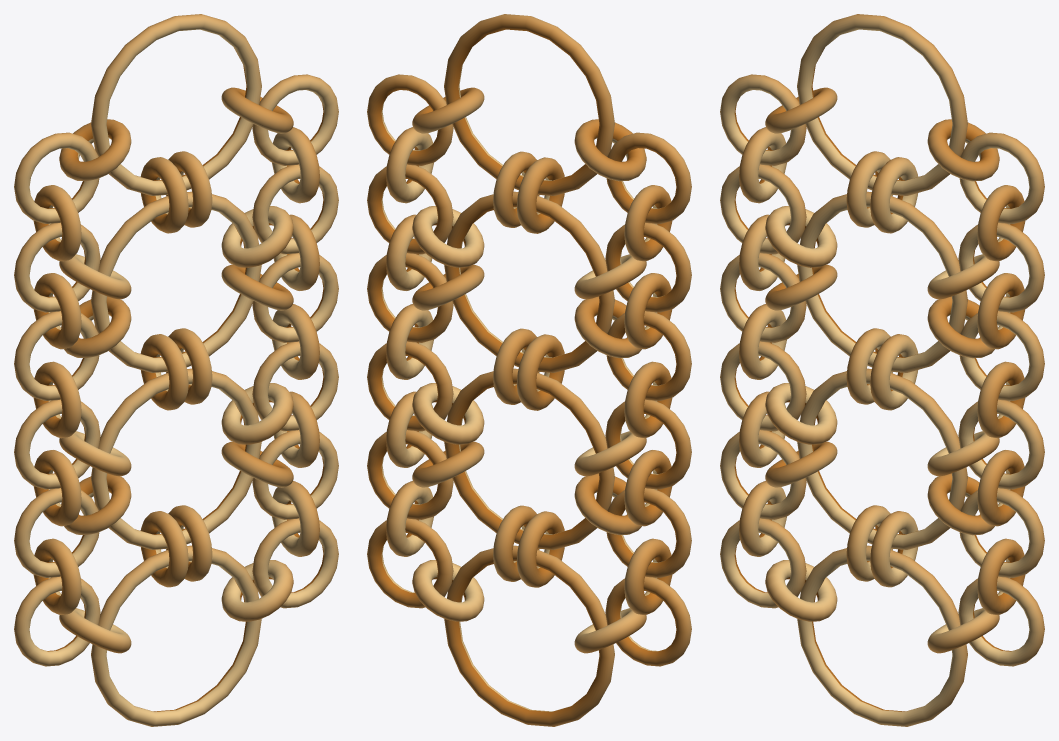
The model's file is hashigo_normal.fbx.
The picture shows the model from 3 angles, left to right: view 1: azimuth 30°, elevation 25°; view 2: azimuth 150°, elevation 25°; view 3: azimuth 330°, elevation 25°; orthographic projection.
Visible parts, largest first — view 1: t1; view 2: t1; view 3: t1.
Part boxes in pixels (<box>): t1: <box>14,14,338,726</box>; t1: <box>367,14,691,726</box>; t1: <box>720,14,1044,726</box>.
Size of the model in its own units: 19.09 by 40 by 4.02.
Materials: 1 (1 with a texture image).
